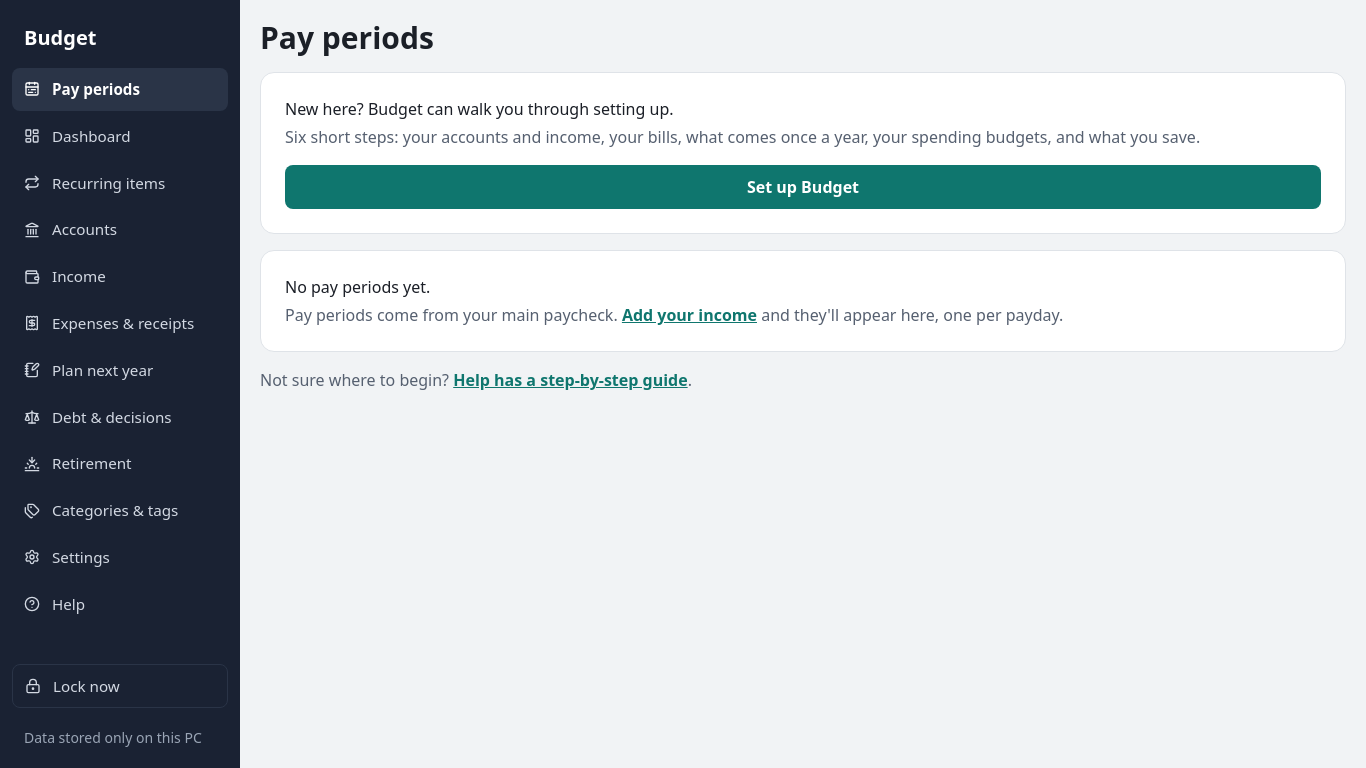
Scenario: Lock now › puts the lock screen up straight away
Click the button "Lock now". click: (120, 686)
box: x1=12 y1=664 x2=228 y2=708
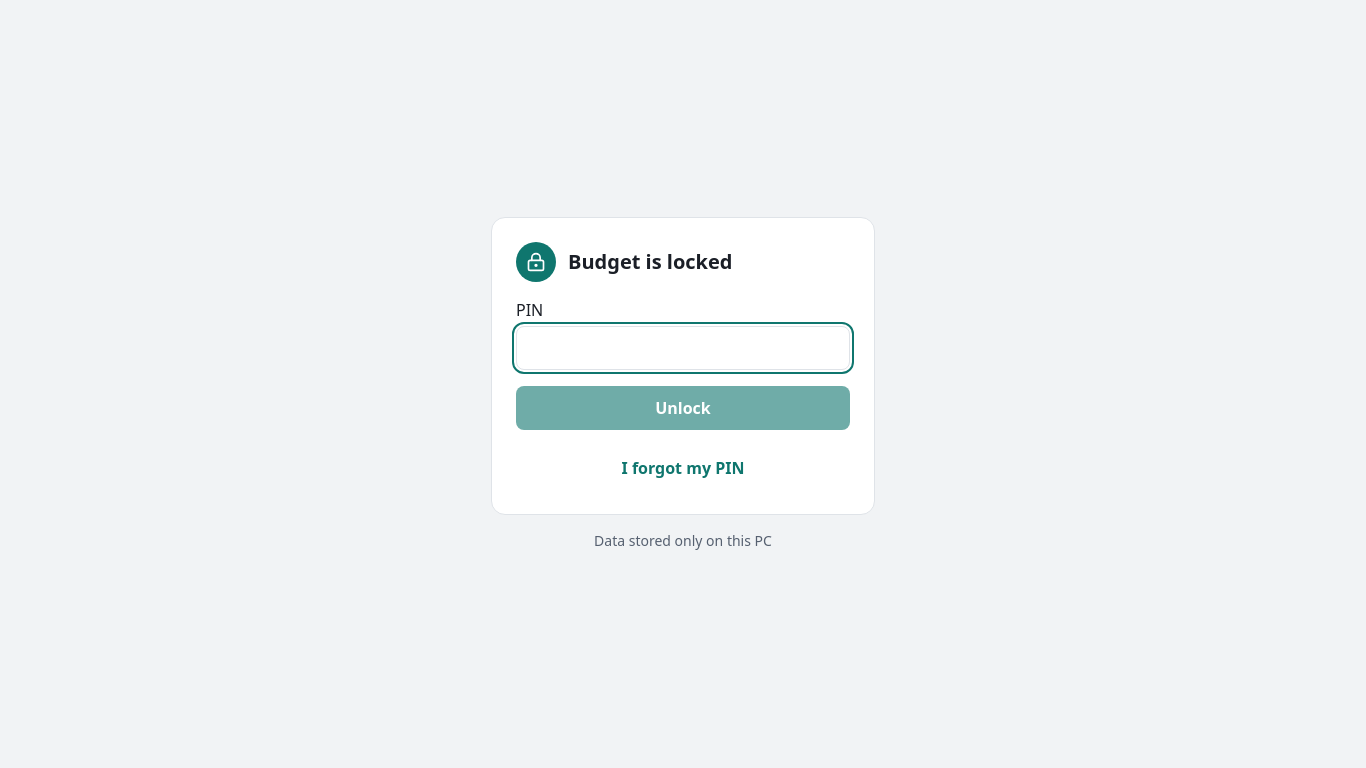
expect the heading "Budget is locked" is shown: met, box x1=568 y1=248 x2=732 y2=276
expect the navigation bar is gone: met
